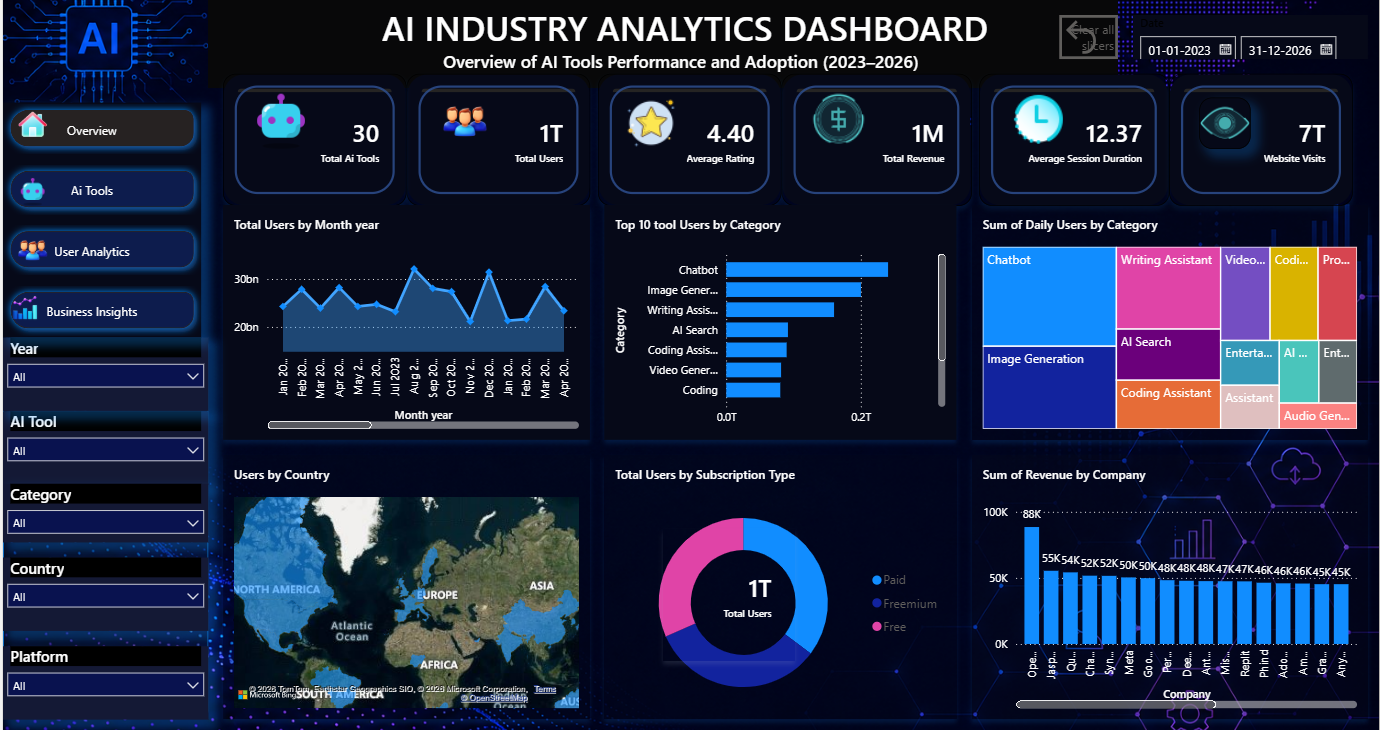

Layout of this report page (visuals, bound fields, positions):
{"tool":"powerbi","page":{"name":"Overview","canvas":[1500,800],"ordinal":0},"visuals":[{"type":"textbox","box":[224,0,992,96],"z":0},{"type":"slicer","fields":{"Values":["Dim_Date.Date"]},"box":[1232,16,256,48],"z":1000},{"type":"cardVisual","fields":{"Data":["Table.Total Users"]},"box":[440,80,200,144.3],"z":2000},{"type":"cardVisual","fields":{"Data":["Table.Total Revenue"]},"box":[848.6,80,207.1,144.3],"z":3000},{"type":"cardVisual","fields":{"Data":["Table.Total Ai Tools"]},"box":[240,80,200,144.3],"z":4000},{"type":"cardVisual","fields":{"Data":["Table.Average Rating"]},"box":[648.6,80,200,144.3],"z":5000},{"type":"cardVisual","fields":{"Data":["Table.Average Session Duration"]},"box":[1064.3,80,207.1,144.3],"z":6000},{"type":"cardVisual","fields":{"Data":["Table.Website Visits"]},"box":[1271.4,80,200,144.3],"z":7000},{"type":"image","box":[878.6,90,64,80],"z":8000},{"type":"image","box":[267.1,98.6,72,64],"z":9000},{"type":"image","box":[480,96,48,72],"z":10000},{"type":"image","box":[674.3,98.6,64,72],"z":11000},{"type":"image","box":[1088.6,98.6,80,64],"z":12000},{"type":"image","box":[1304.3,105.7,56,56],"z":13000},{"type":"shape","box":[0,0,223.5,16.4],"z":14000},{"type":"shape","box":[0,368,224,416],"z":15000},{"type":"lineChart","fields":{"Y":["Table.Total Users"],"Category":["Dim_Date.Month year"]},"box":[240,224,400,256],"z":16000},{"type":"barChart","title":"Top 10 tool Users by Category","fields":{"Y":["Table.Total Users"],"Category":["Dim_AI_Tools.Category"]},"box":[656,224,384,256],"z":17000},{"type":"filledMap","title":"Users by Country","fields":{"Category":["Dim_Country.Country"]},"box":[240,496,400,288],"z":18000},{"type":"donutChart","fields":{"Category":["Dim_Subscription.Subscription Type"],"Y":["Table.Total Users"]},"box":[656,496,384,288],"z":19000},{"type":"cardVisual","fields":{"Data":["Table.Total Users"]},"box":[719.5,576.4,144,144],"z":20000},{"type":"clusteredColumnChart","fields":{"Y":["Sum(Fact_AI_Usage.Revenue)"],"Category":["Dim_AI_Tools.Company"]},"box":[1056,496,432,288],"z":21000},{"type":"actionButton","box":[1152,16,64,48],"z":22000},{"type":"slicer","fields":{"Values":["Dim_AI_Tools.AI Tool"]},"box":[0,448,224,80],"z":23000},{"type":"slicer","fields":{"Values":["Dim_AI_Tools.Category"]},"box":[0,528,224,64],"z":24000},{"type":"slicer","fields":{"Values":["Dim_Country.Country"]},"box":[0,608,224,80],"z":25000},{"type":"slicer","fields":{"Values":["Dim_Platform.Platform"]},"box":[0,704,224,80],"z":26000},{"type":"slicer","fields":{"Values":["Dim_Date.Year"]},"box":[0,368,224,80],"z":27000},{"type":"treemap","fields":{"Values":["Sum(Fact_AI_Usage.Daily Users)"],"Group":["Dim_AI_Tools.Category"]},"box":[1056,224,432,256],"z":28000},{"type":"pageNavigator","box":[0,112,216,256],"z":29000},{"type":"image","box":[16,112,32,48],"z":30000},{"type":"image","box":[16,184,32,48],"z":31000},{"type":"image","box":[0,320,48,32],"z":32000},{"type":"image","box":[16,256,32,32],"z":33000}]}

Visuals, with their boxes on the page's 1500x800 design canvas (x1, y1, x2, y2). These are canvas units, not pixel positions in the 1380x730 screenshot, which may show the page scaled, cropped or inside an application window:
textbox: [x1=224, y1=0, x2=1216, y2=96]
slicer - Dim_Date.Date: [x1=1232, y1=16, x2=1488, y2=64]
cardVisual - Table.Total Users: [x1=440, y1=80, x2=640, y2=224]
cardVisual - Table.Total Revenue: [x1=849, y1=80, x2=1056, y2=224]
cardVisual - Table.Total Ai Tools: [x1=240, y1=80, x2=440, y2=224]
cardVisual - Table.Average Rating: [x1=649, y1=80, x2=849, y2=224]
cardVisual - Table.Average Session Duration: [x1=1064, y1=80, x2=1271, y2=224]
cardVisual - Table.Website Visits: [x1=1271, y1=80, x2=1471, y2=224]
image: [x1=879, y1=90, x2=943, y2=170]
image: [x1=267, y1=99, x2=339, y2=163]
image: [x1=480, y1=96, x2=528, y2=168]
image: [x1=674, y1=99, x2=738, y2=171]
image: [x1=1089, y1=99, x2=1169, y2=163]
image: [x1=1304, y1=106, x2=1360, y2=162]
shape: [x1=0, y1=0, x2=224, y2=16]
shape: [x1=0, y1=368, x2=224, y2=784]
lineChart - Table.Total Users x Dim_Date.Month year: [x1=240, y1=224, x2=640, y2=480]
"Top 10 tool Users by Category" barChart: [x1=656, y1=224, x2=1040, y2=480]
"Users by Country" filledMap: [x1=240, y1=496, x2=640, y2=784]
donutChart - Dim_Subscription.Subscription Type x Table.Total Users: [x1=656, y1=496, x2=1040, y2=784]
cardVisual - Table.Total Users: [x1=720, y1=576, x2=864, y2=720]
clusteredColumnChart - Sum(Fact_AI_Usage.Revenue) x Dim_AI_Tools.Company: [x1=1056, y1=496, x2=1488, y2=784]
actionButton: [x1=1152, y1=16, x2=1216, y2=64]
slicer - Dim_AI_Tools.AI Tool: [x1=0, y1=448, x2=224, y2=528]
slicer - Dim_AI_Tools.Category: [x1=0, y1=528, x2=224, y2=592]
slicer - Dim_Country.Country: [x1=0, y1=608, x2=224, y2=688]
slicer - Dim_Platform.Platform: [x1=0, y1=704, x2=224, y2=784]
slicer - Dim_Date.Year: [x1=0, y1=368, x2=224, y2=448]
treemap - Sum(Fact_AI_Usage.Daily Users) x Dim_AI_Tools.Category: [x1=1056, y1=224, x2=1488, y2=480]
pageNavigator: [x1=0, y1=112, x2=216, y2=368]
image: [x1=16, y1=112, x2=48, y2=160]
image: [x1=16, y1=184, x2=48, y2=232]
image: [x1=0, y1=320, x2=48, y2=352]
image: [x1=16, y1=256, x2=48, y2=288]
